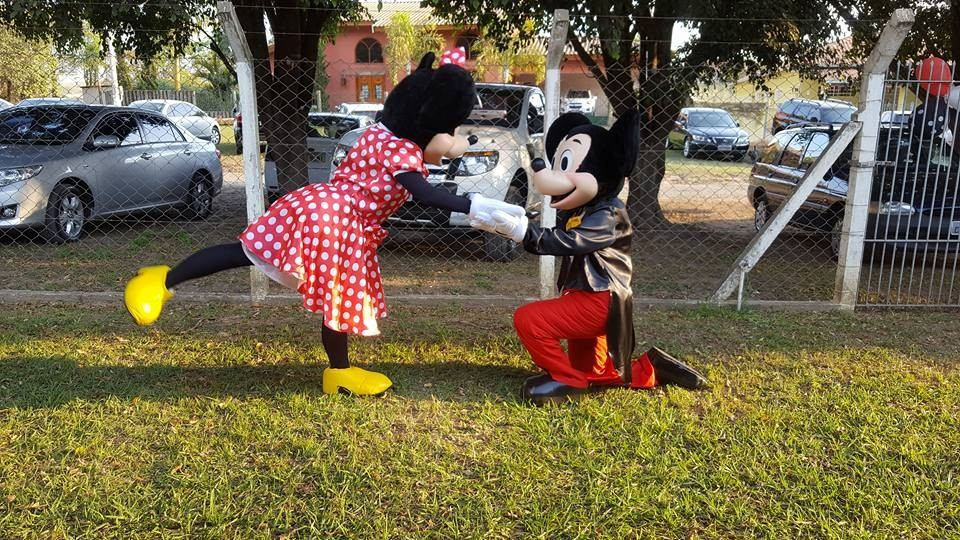Mickey: (525, 106, 638, 211)
